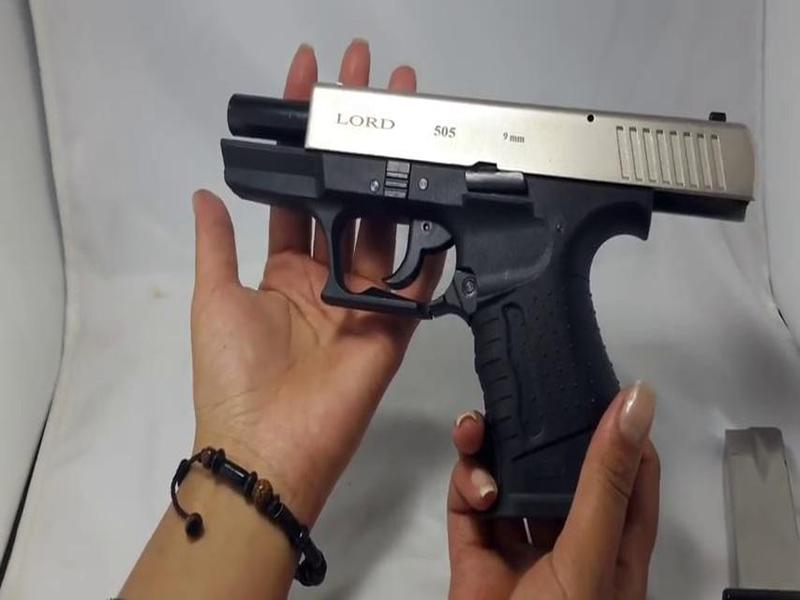Pistola: (205, 54, 765, 524)
